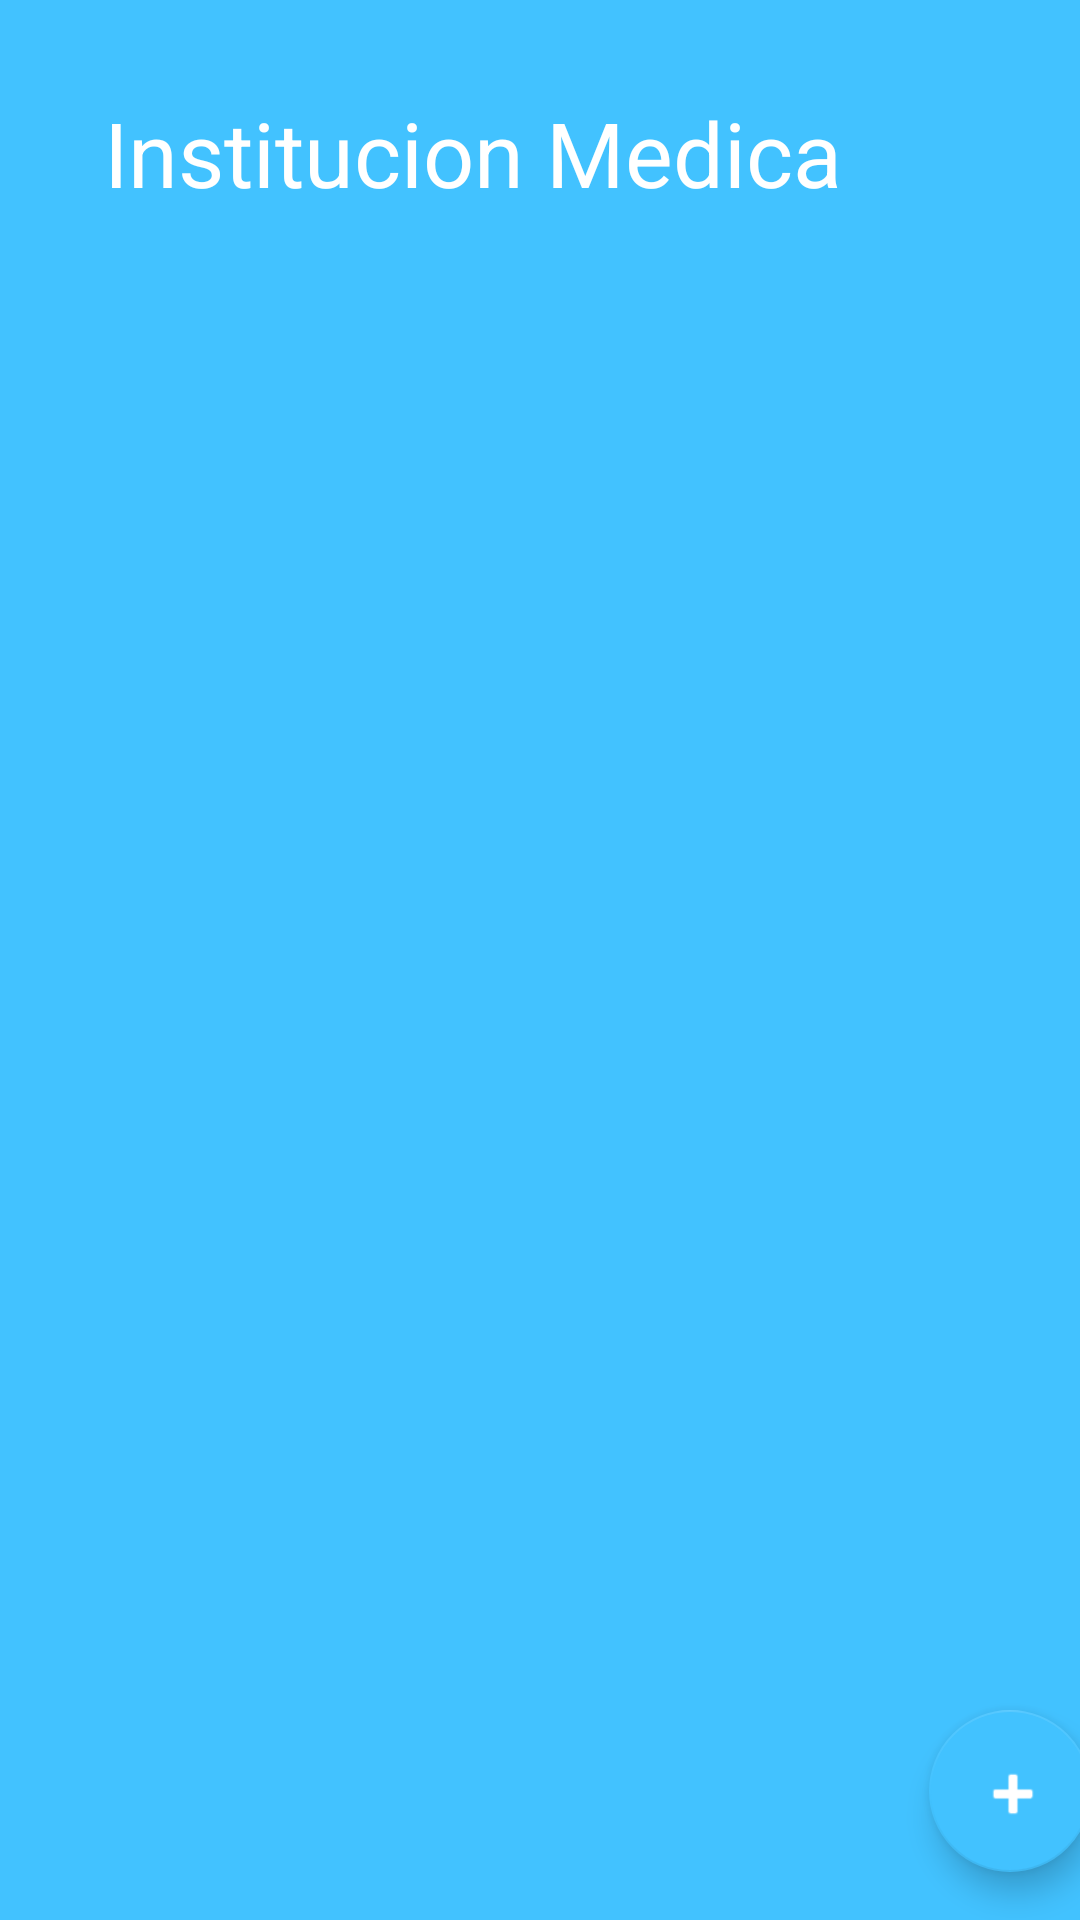

Named icons in this screenshot (1080 × 1920) and their bounding boxes, [x1, y1, x2, y2]:
add: [934, 1710, 1080, 1872]
